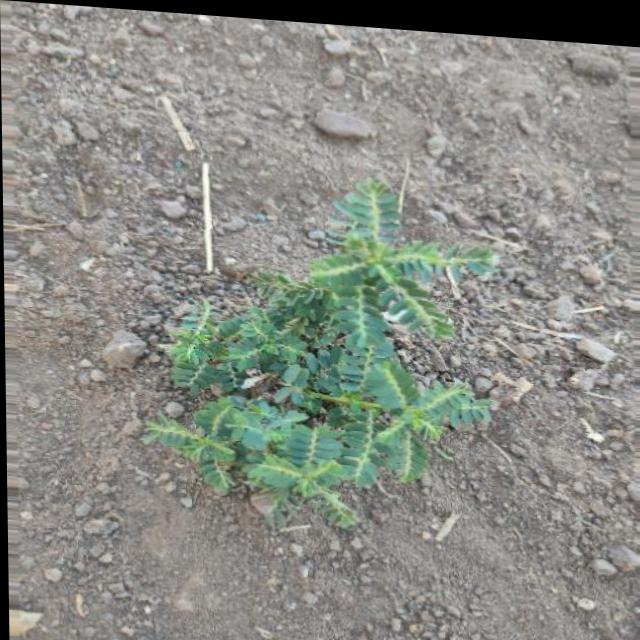weed: (138, 151, 507, 537)
